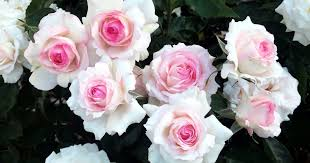rose: (35, 14, 90, 86), (246, 31, 284, 135), (76, 73, 130, 123), (160, 111, 210, 161), (97, 3, 140, 60), (161, 52, 200, 95)
